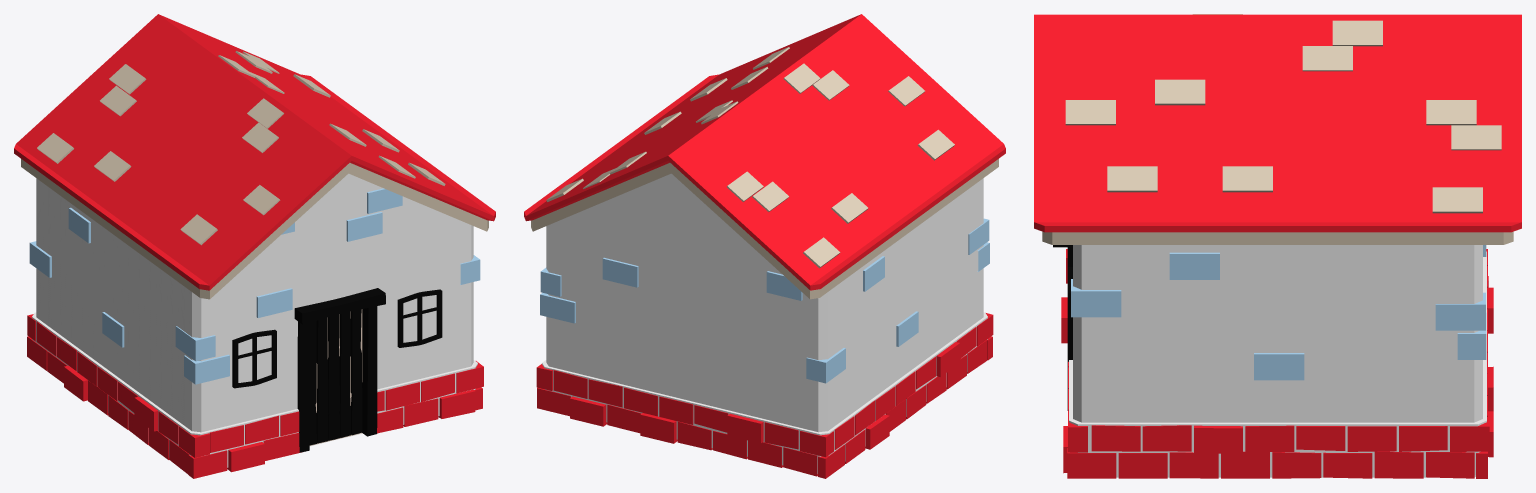
File: building_quaternius_1Story_GableRoof.glb
The picture shows the model from 3 angles, left to right: view 1: azimuth 30°, elevation 25°; view 2: azimuth 150°, elevation 25°; view 3: azimuth 270°, elevation 25°; orthographic projection. The views are drawn at different scales.
Size of the model in its own units: 2.11 by 2.02 by 2.38.
1 material, 1 textured.
